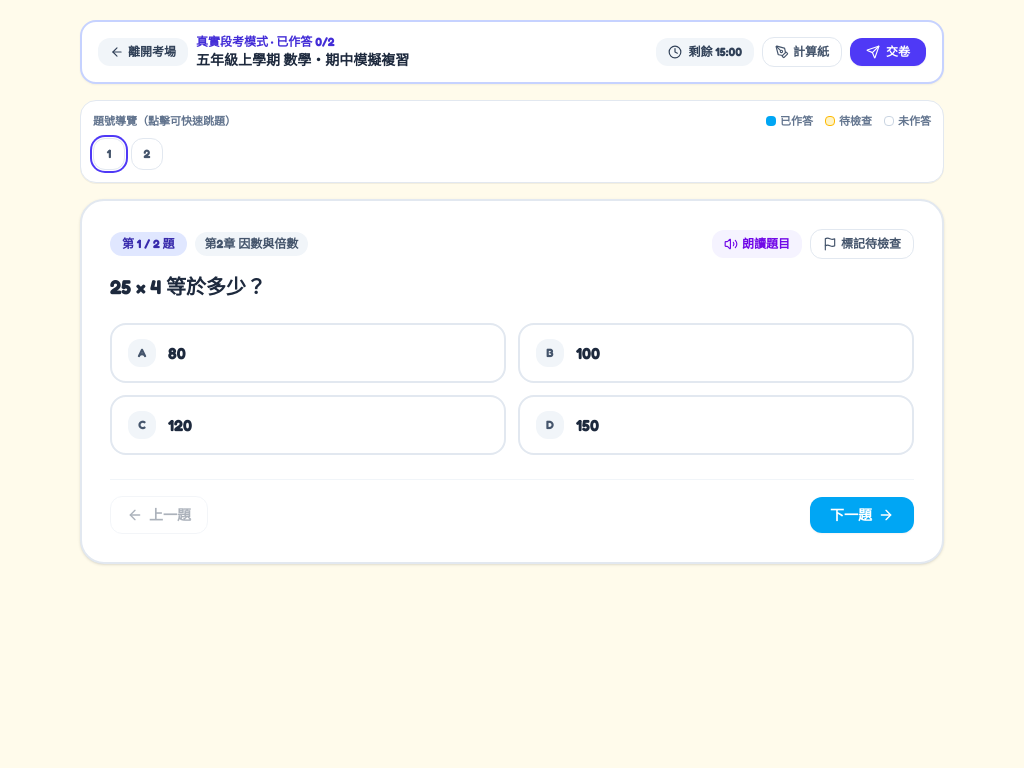
Test: MockExamArena › supports flagging, answering, and renders unit breakdown & score on submit
Expected: the text "真實段考模式 · 已作答 0/2" is shown, [196, 34, 335, 49]
Expected: the heading "25 × 4 等於多少？" is shown, [110, 274, 266, 298]
答對第 1 題 (100)
Click the button "B 100" at {"x": 550, "y": 353}, box [518, 323, 914, 383]
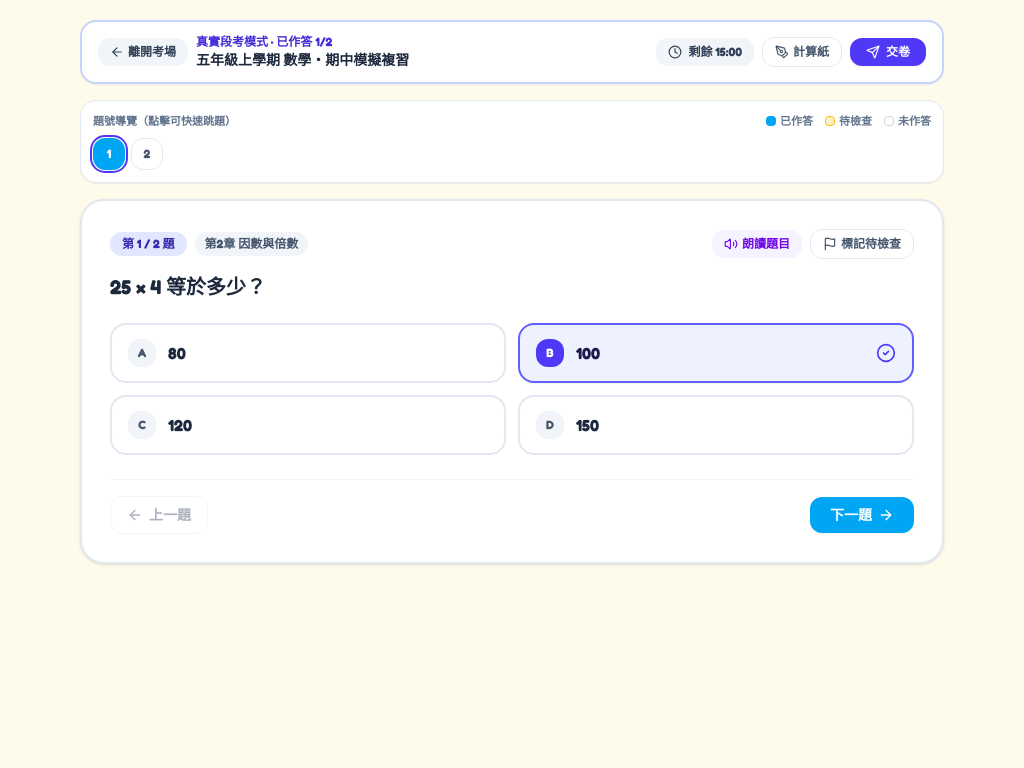
Expected: the text "真實段考模式 · 已作答 1/2" is shown, [196, 34, 332, 49]
下一題並答錯第 2 題 (選 3)
Click the button "下一題" at {"x": 862, "y": 515}, box [810, 497, 914, 533]
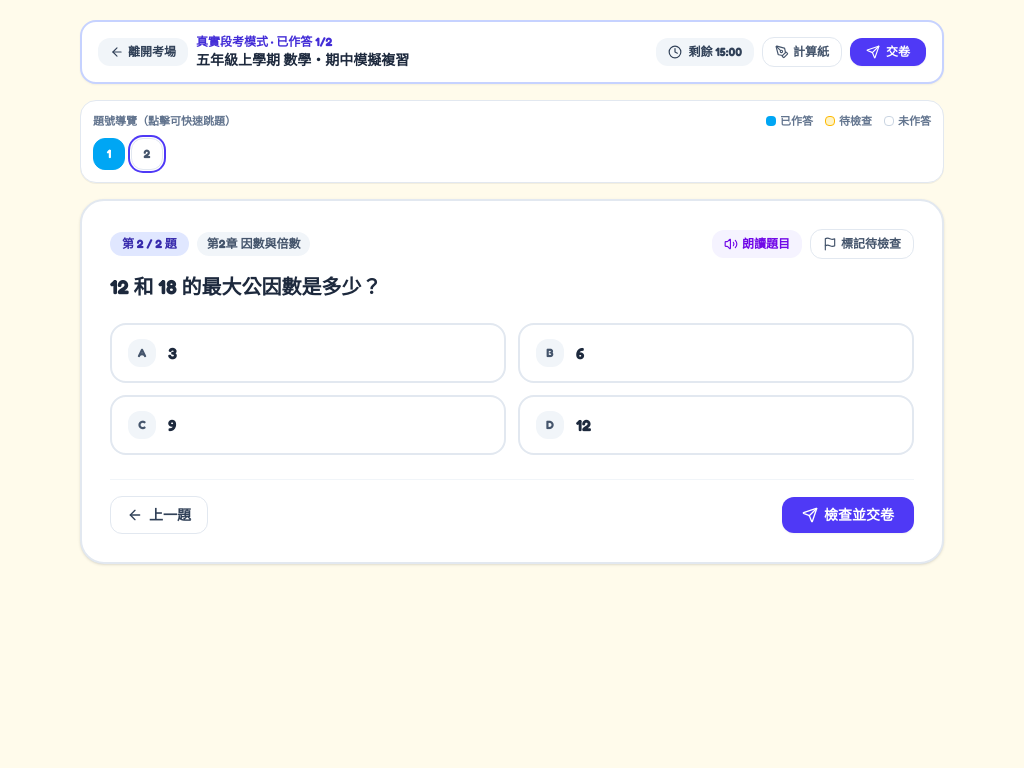
Expected: the heading "12 和 18 的最大公因數是多少？" is shown, [110, 274, 381, 298]
標記待檢查再交卷
Click the button "標記待檢查" at {"x": 862, "y": 244}, box [810, 228, 914, 258]
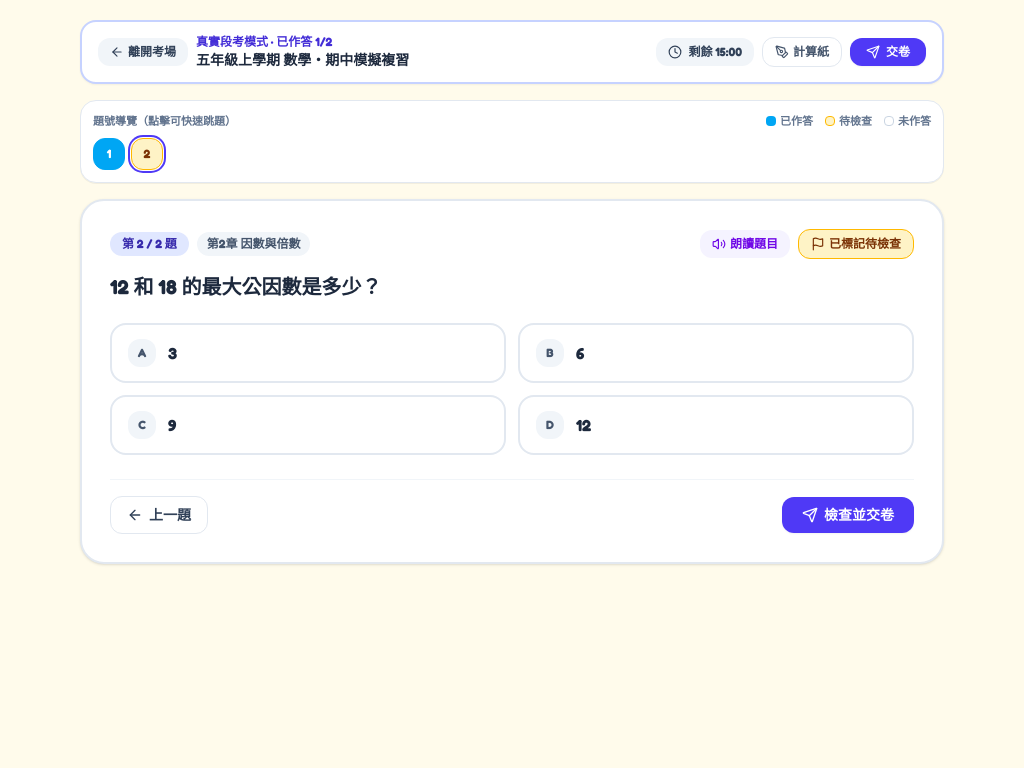
Click the button "檢查並交卷" at {"x": 848, "y": 515}, box [782, 497, 914, 533]
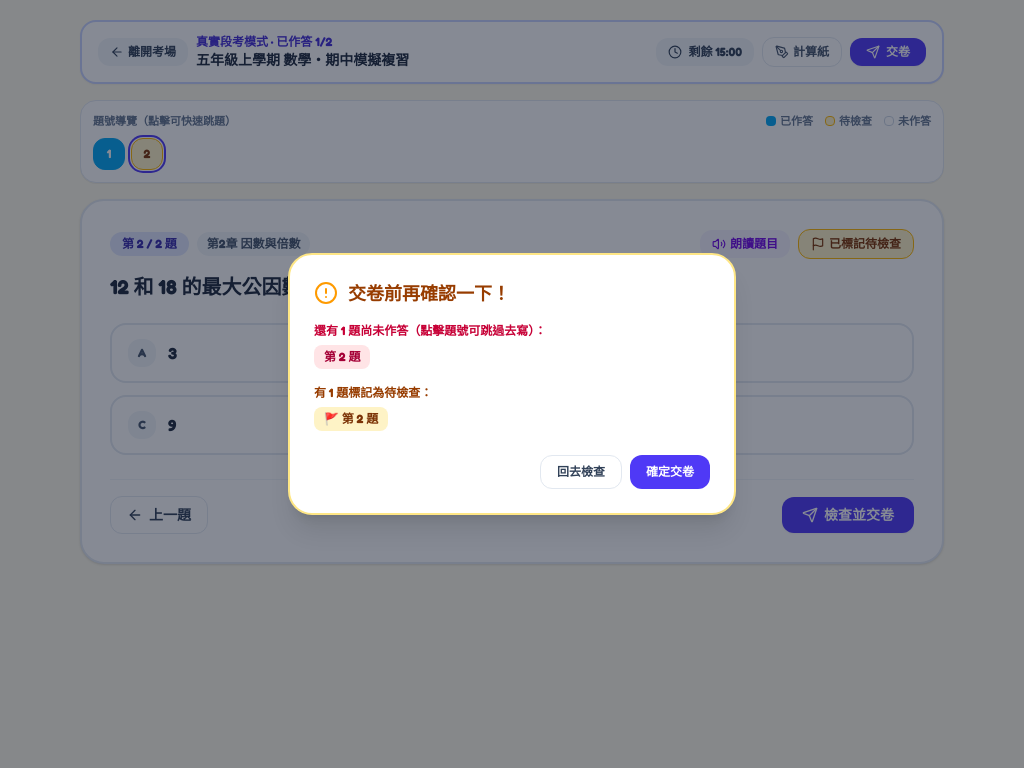
Expected: the heading "交卷前再確認一下！" is shown, [348, 279, 510, 307]
Click the button "確定交卷" at {"x": 670, "y": 472}, box [630, 455, 710, 489]
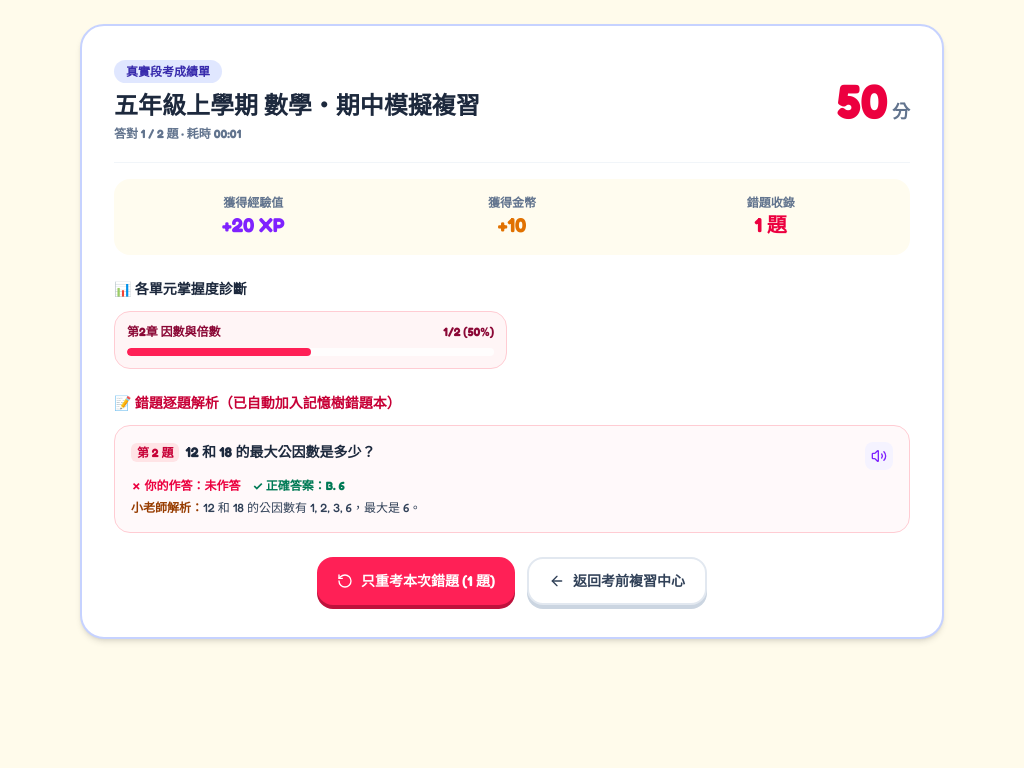
Expected: the text "真實段考成績單" is shown, [114, 60, 222, 83]
Expected: the heading "📊 各單元掌握度診斷" is shown, [114, 280, 247, 297]
